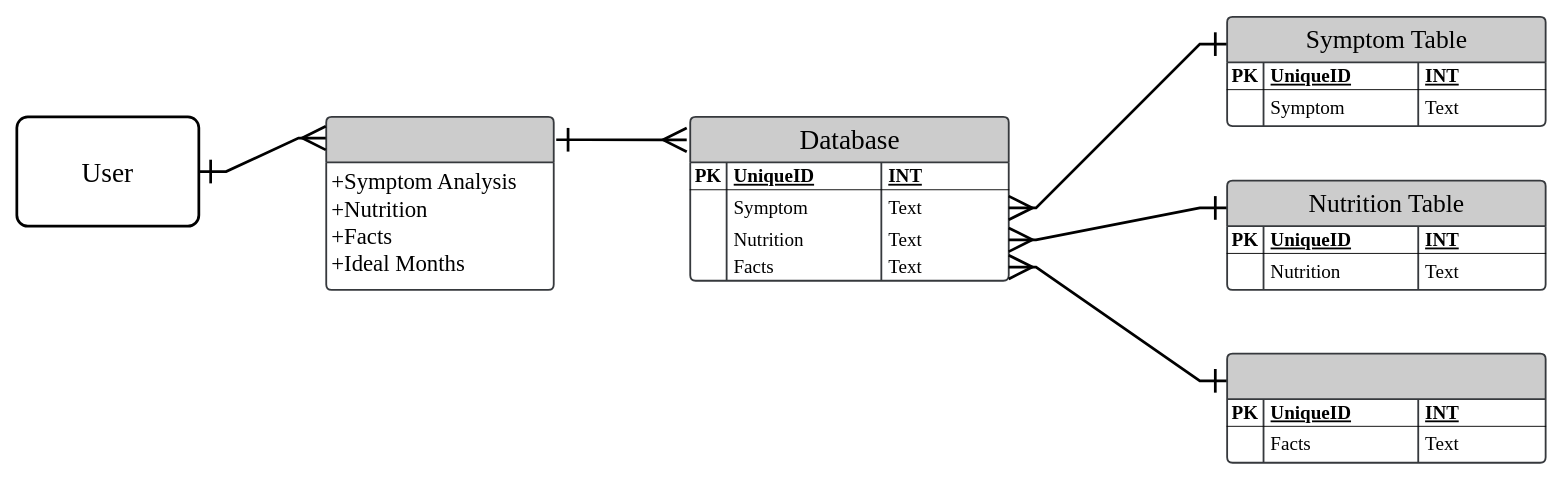
Image size: 1562x479. Some labels were removed from this diagram. Each missing label, with the box of its shape:
Facts Table: (1226, 352, 1546, 463)
PigCare: (325, 116, 554, 290)
